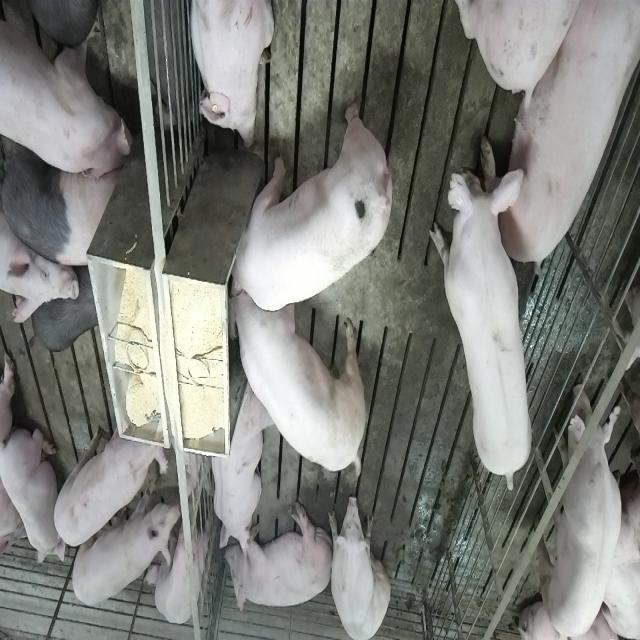Feeding: (220, 101, 390, 312), (230, 280, 372, 477)
Lateral_lying: (222, 500, 334, 616)
Sitting: (328, 493, 390, 640)
Standing: (429, 145, 534, 494), (534, 376, 630, 636), (2, 0, 136, 183), (4, 134, 126, 272), (51, 406, 168, 548), (68, 480, 180, 608), (155, 503, 211, 628), (5, 0, 100, 48)
Sternal_lying: (186, 0, 275, 149), (208, 378, 271, 554), (4, 424, 64, 568)
